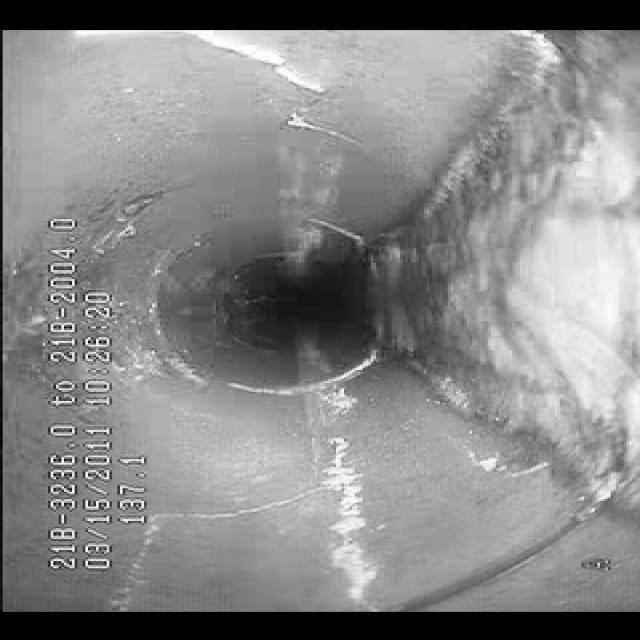Crack: (92, 479, 322, 606)
